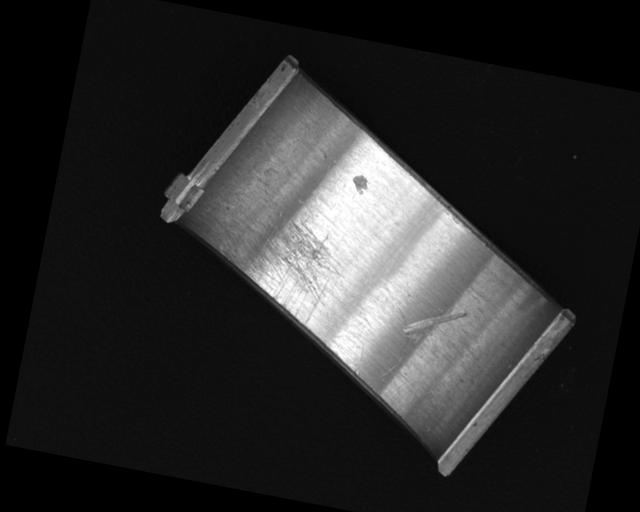bruise: (349, 171, 370, 196)
nick: (401, 300, 468, 350), (378, 301, 415, 382)
scratch: (211, 206, 353, 332)
